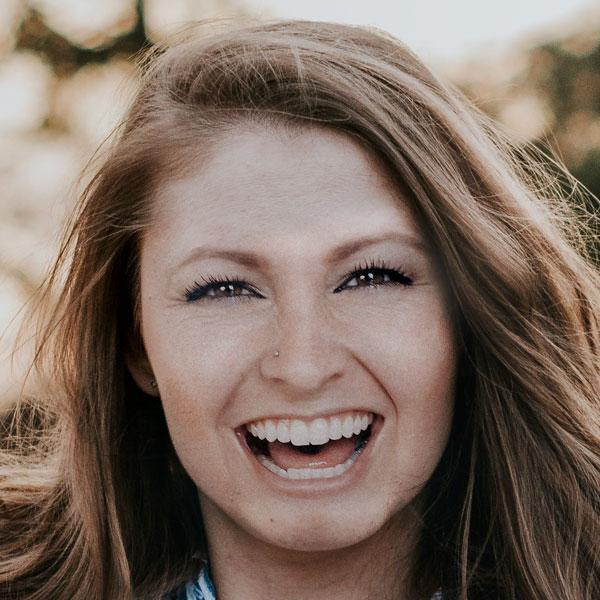Eyes: (321, 251, 426, 308), (174, 264, 274, 315)
